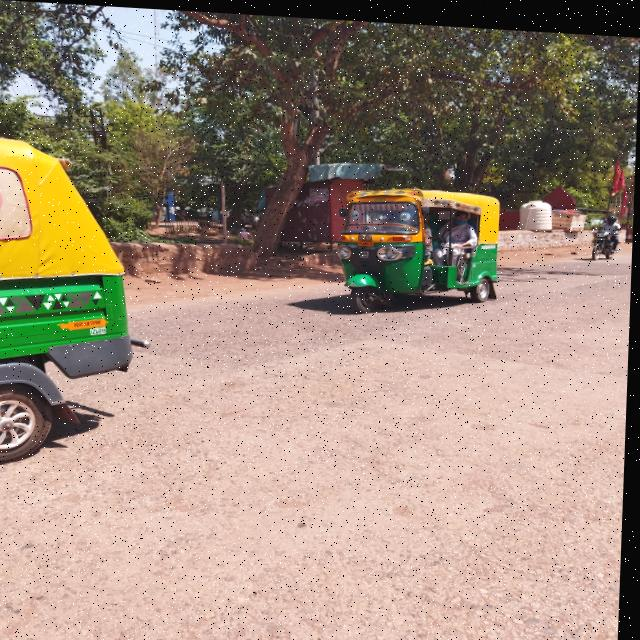plate: (74, 317, 107, 329), (358, 232, 376, 242), (596, 230, 608, 233)
